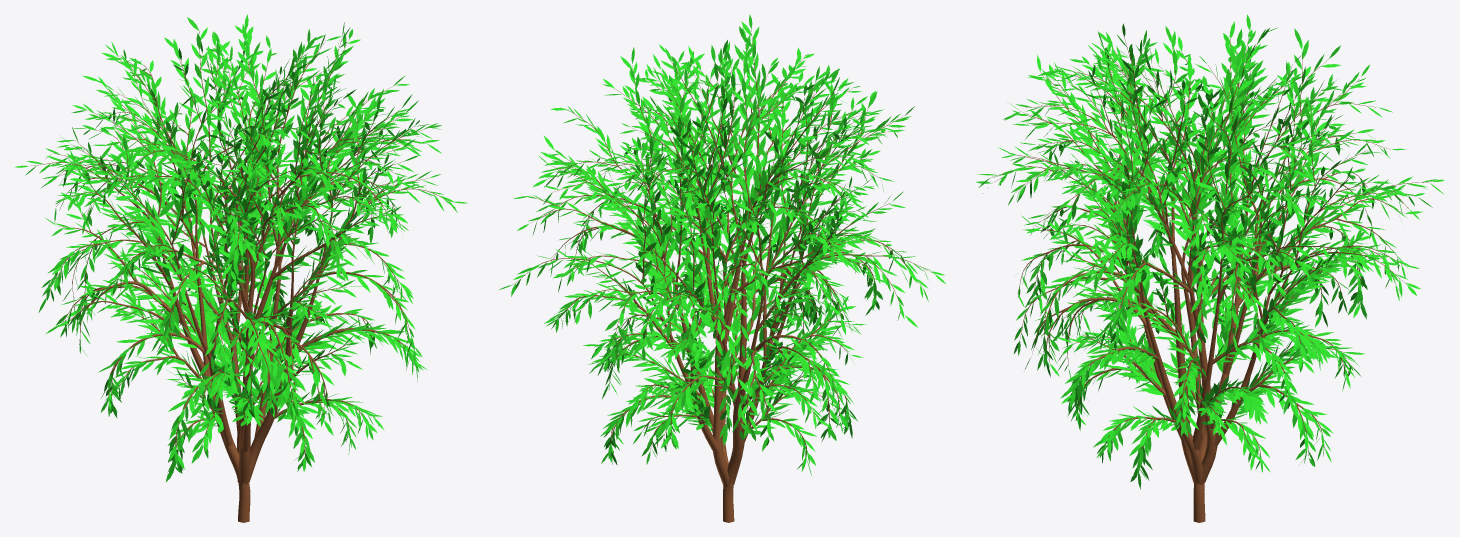
Rendered from tree.fbx.
3 views of the same model, side by side, from view 1: azimuth 30°, elevation 25°; view 2: azimuth 150°, elevation 25°; view 3: azimuth 270°, elevation 25° (orthographic). The views are drawn at different scales.
Parts seen in each view (by area): view 1: leaves, tree; view 2: leaves, tree; view 3: leaves, tree.
Part boxes in pixels (left/top/right/bottom): leaves: left=15, top=14, right=467, bottom=482; tree: left=31, top=31, right=451, bottom=522; leaves: left=499, top=14, right=945, bottom=475; tree: left=514, top=30, right=933, bottom=522; leaves: left=976, top=14, right=1444, bottom=489; tree: left=991, top=32, right=1431, bottom=522.
Size of the model in its own units: 693 by 830 by 701.
